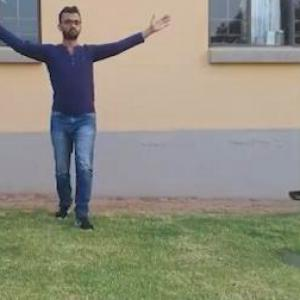takeoff: (0, 3, 170, 222)
